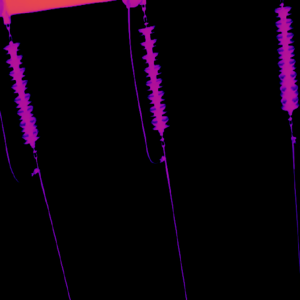insulator: (2, 39, 37, 146), (137, 23, 167, 136), (275, 3, 299, 116)
